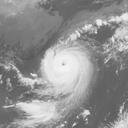cyclone: (41, 43, 95, 94)
